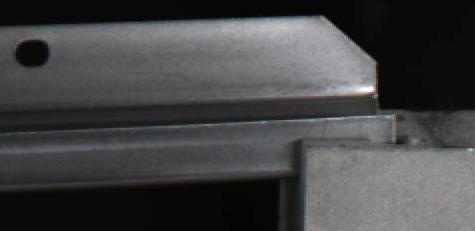cut: (252, 15, 394, 176)
holes: (12, 38, 50, 69)
